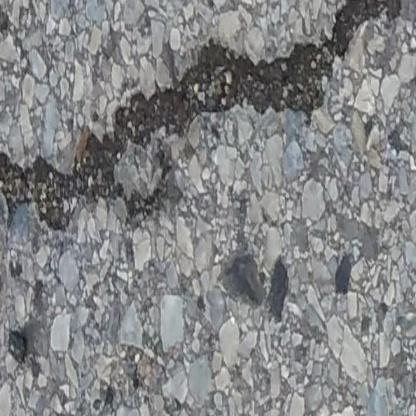Cracks: (0, 0, 414, 238)
